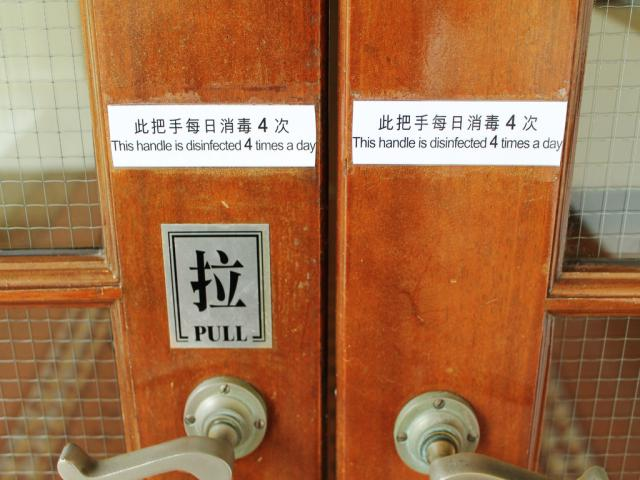Door-handle: (55, 376, 268, 480), (394, 391, 608, 479)
